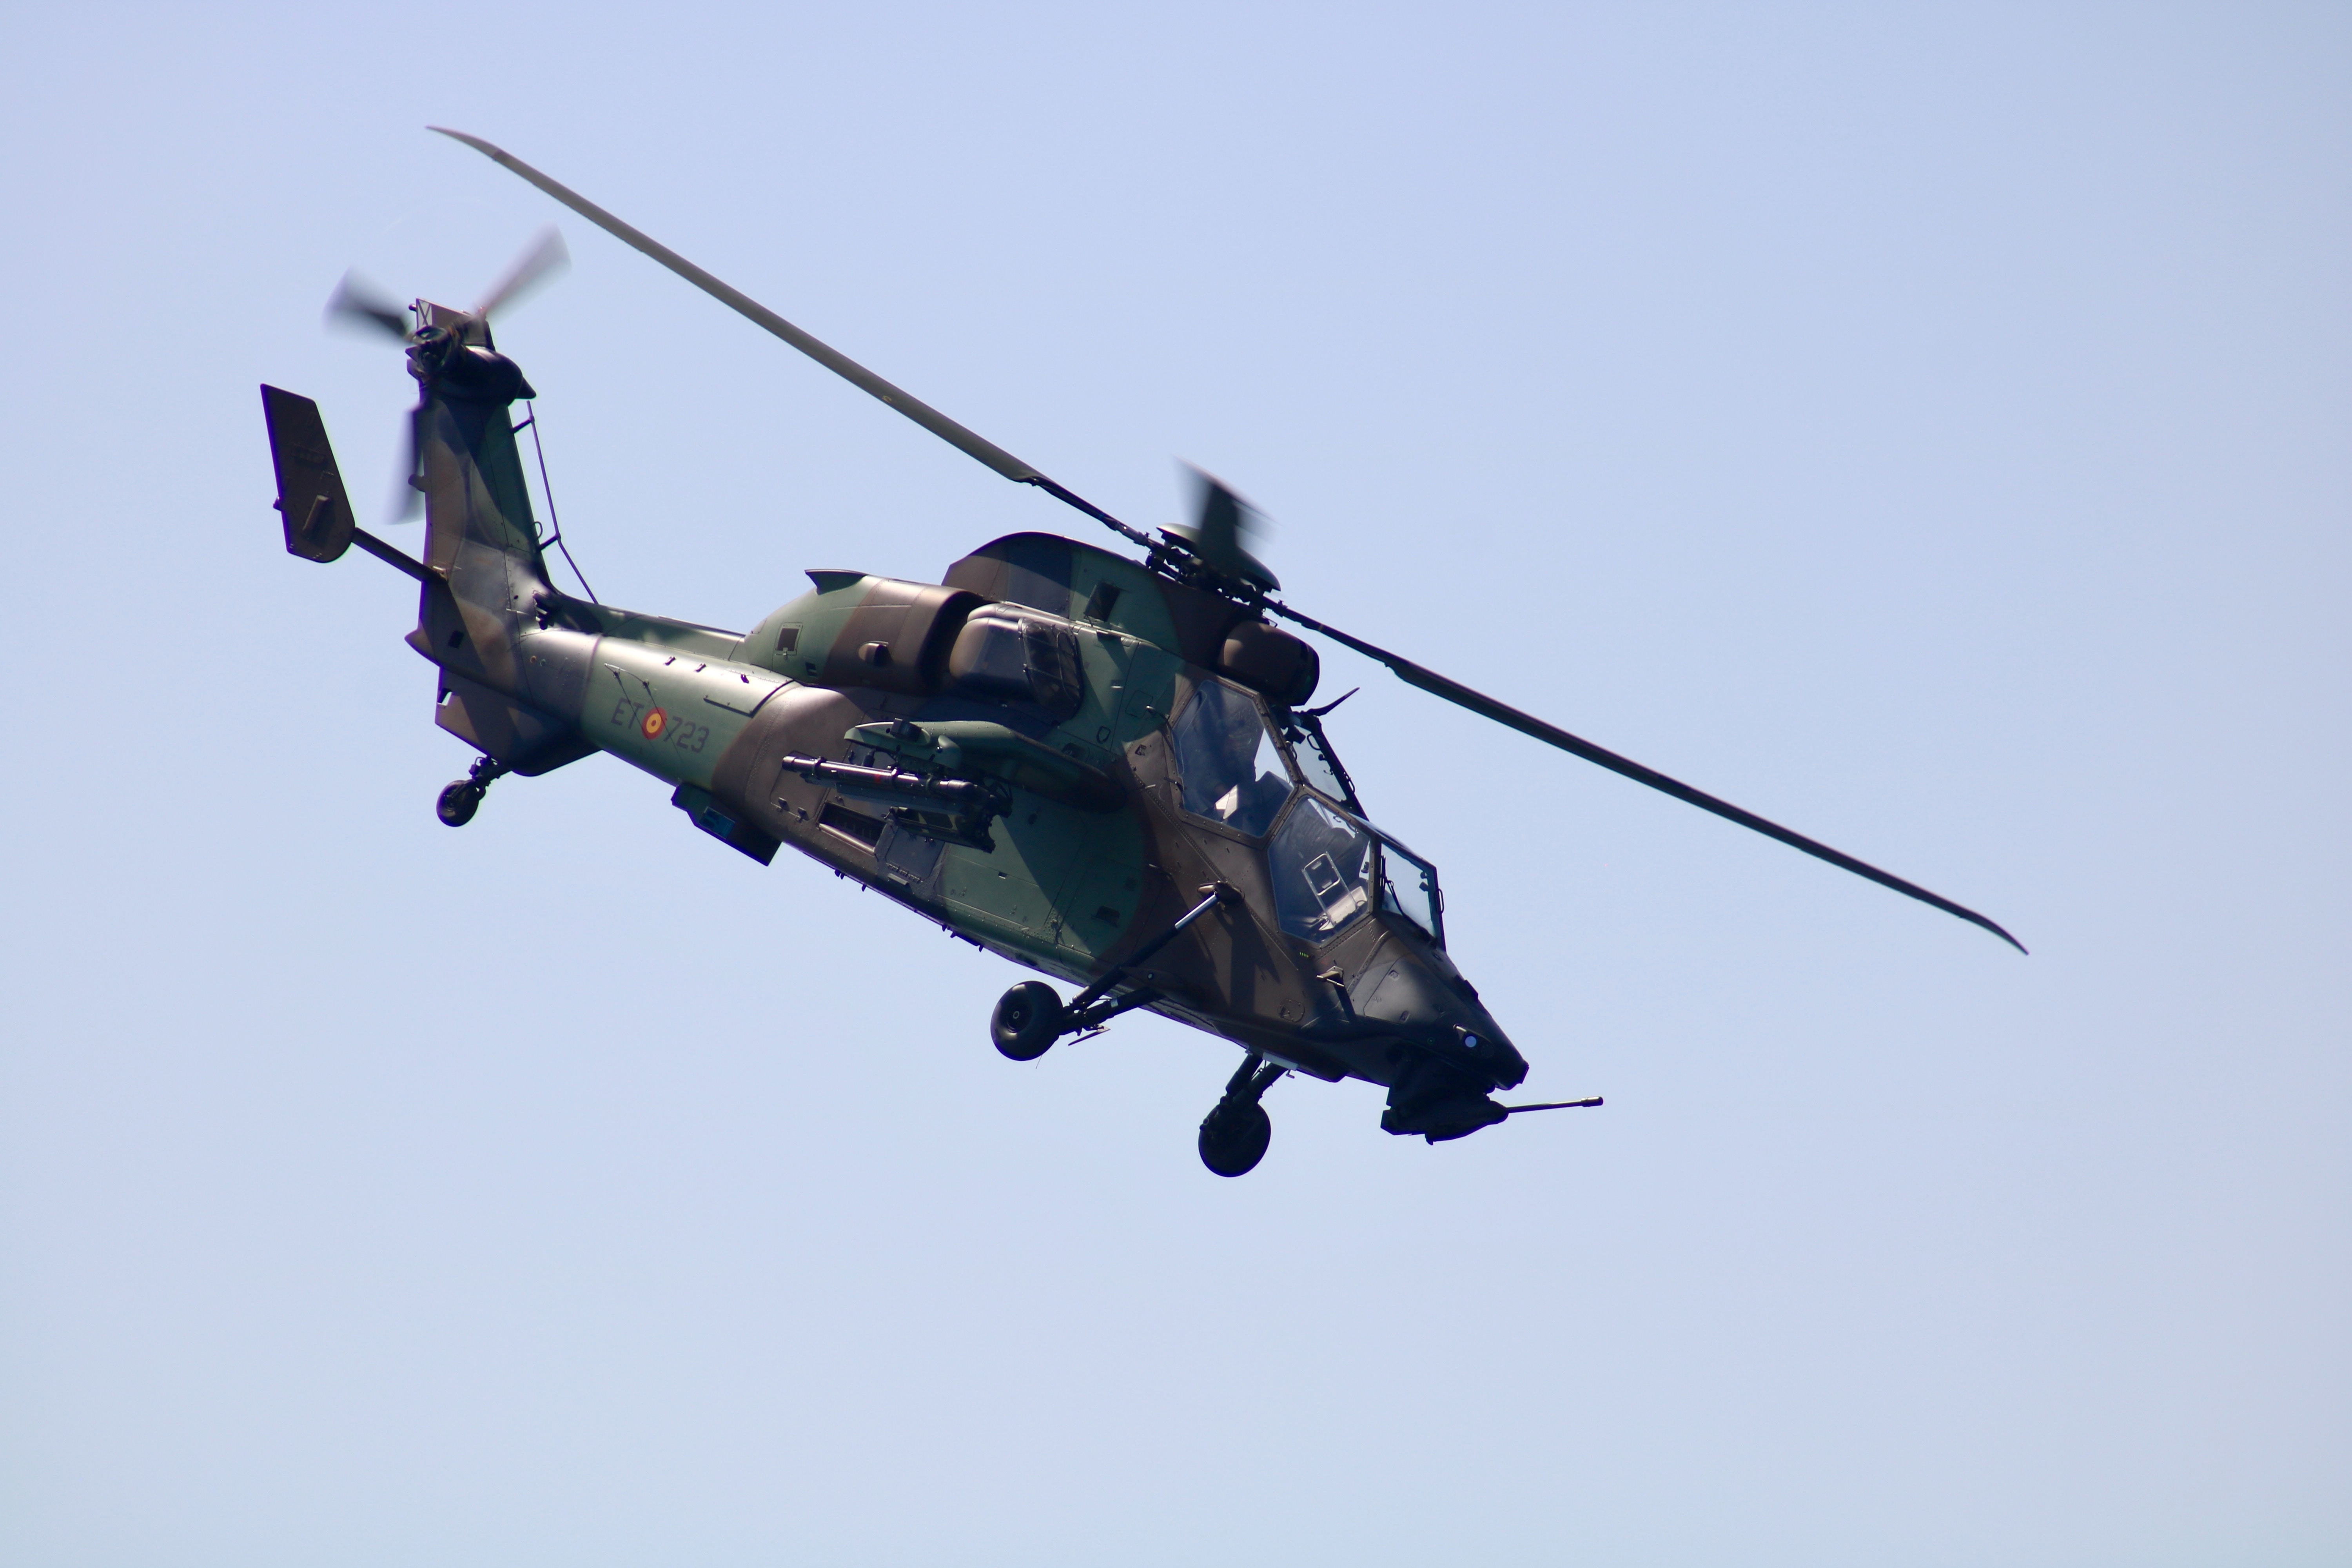helicopter: (121, 45, 2212, 1297)
